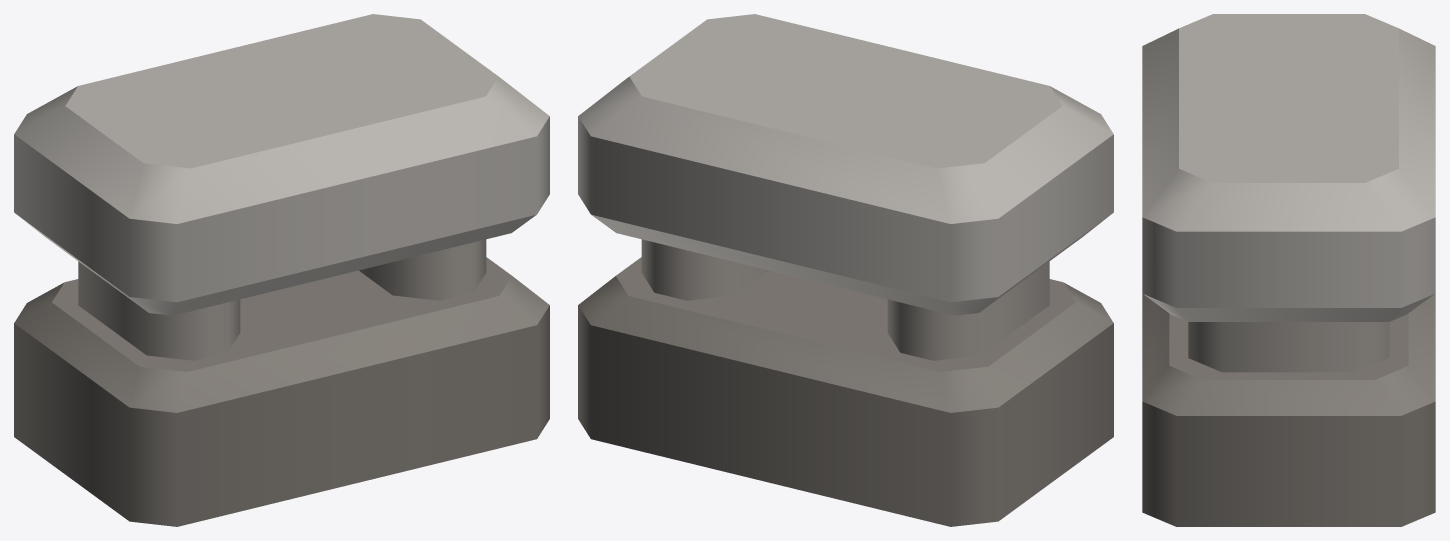
File: Stone Fence 01.FBX
The picture shows the model from 3 angles, left to right: view 1: azimuth 30°, elevation 25°; view 2: azimuth 150°, elevation 25°; view 3: azimuth 270°, elevation 25°; orthographic projection. The views are drawn at different scales.
Visible parts, largest first — view 1: Stone Fence 01; view 2: Stone Fence 01; view 3: Stone Fence 01.
Boxes of the visible parts, x1,y1,x2,y2 form: Stone Fence 01: (14,14,549,526); Stone Fence 01: (578,14,1113,526); Stone Fence 01: (1142,14,1435,526).
Size of the model in its own units: 94.41 by 72.3 by 58.47.
Materials: 1 (1 with a texture image).
